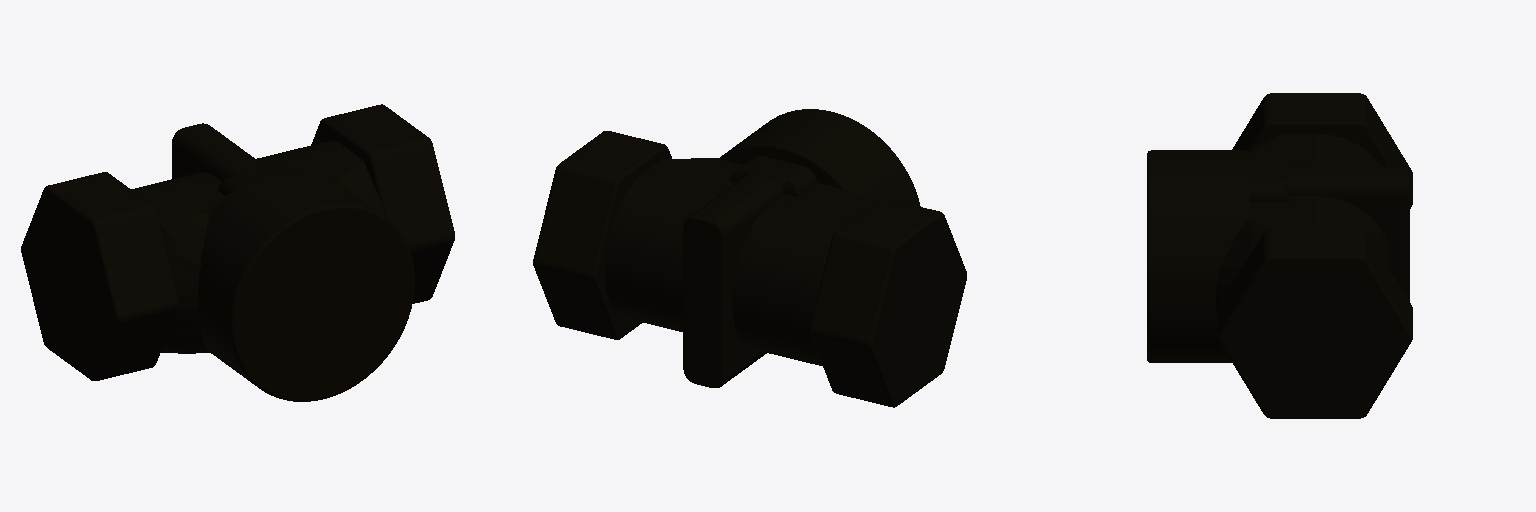
File: zlata_rura.obj
The picture shows the model from 3 angles: view 1: azimuth 30°, elevation 25°; view 2: azimuth 150°, elevation 25°; view 3: azimuth 270°, elevation 25°; orthographic projection.
Visible parts, largest first — view 1: Cube.031_Cube.042; view 2: Cube.031_Cube.042; view 3: Cube.031_Cube.042.
Part boxes in pixels (x1,y1,x2,y2): Cube.031_Cube.042: (21,104,454,401); Cube.031_Cube.042: (533,109,966,407); Cube.031_Cube.042: (1147,93,1412,418).
Size of the model in its own units: 0.4046 by 0.22 by 0.2745.